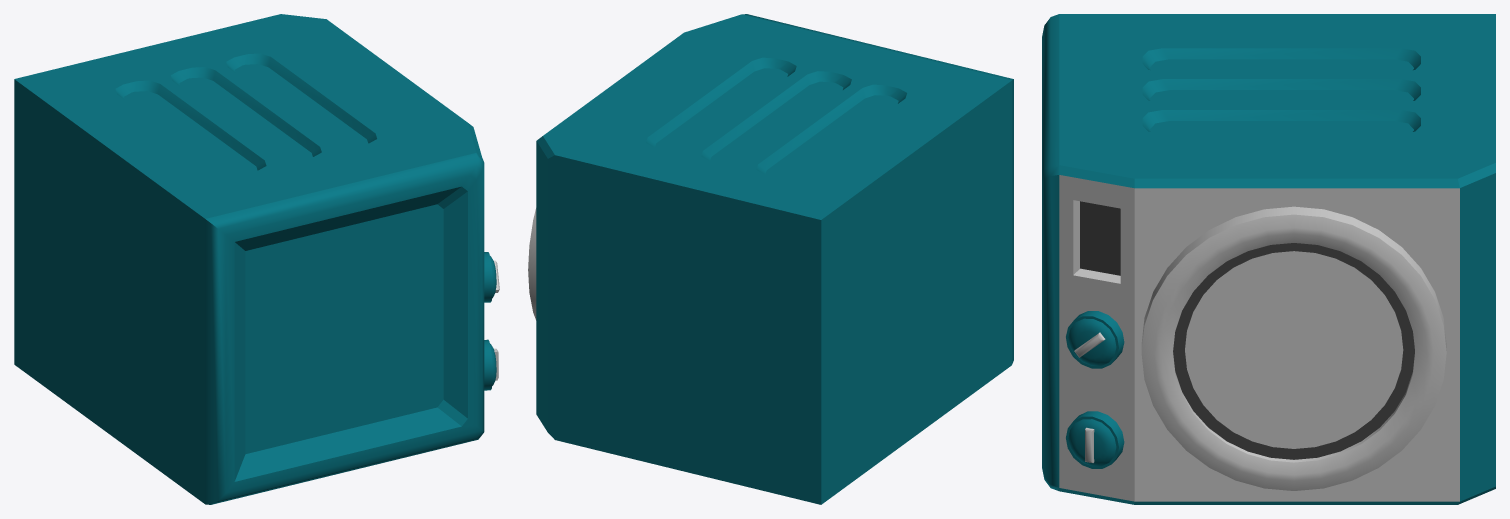
Rendered from dryer.glb.
The picture shows the model from 3 angles, left to right: view 1: azimuth 30°, elevation 25°; view 2: azimuth 150°, elevation 25°; view 3: azimuth 270°, elevation 25°; orthographic projection. The views are drawn at different scales.
Parts seen in each view (by area): view 1: Dryer; view 2: Dryer; view 3: Dryer.
Boxes of the visible parts, x1=… form: Dryer: x1=14, y1=14, x2=499, y2=504; Dryer: x1=528, y1=14, x2=1013, y2=504; Dryer: x1=1042, y1=14, x2=1495, y2=504.
Size of the model in its own units: 1.05 by 0.905 by 1.14.
